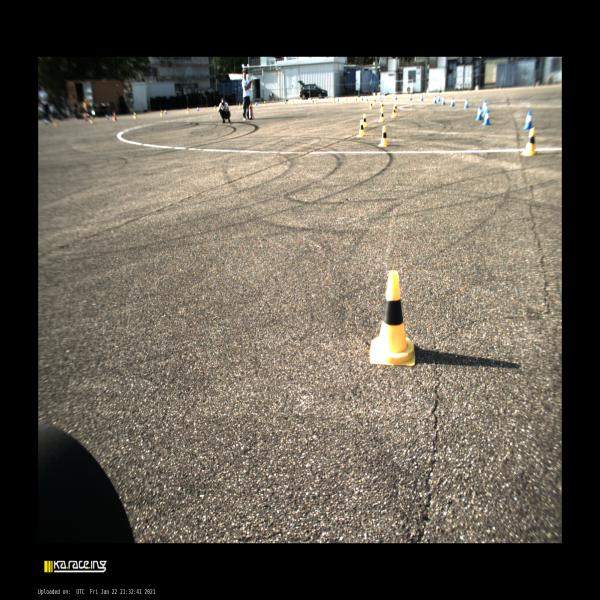blue_cone: (482, 110, 490, 126), (523, 111, 530, 129), (476, 106, 482, 120), (450, 97, 454, 107), (464, 99, 468, 108), (433, 96, 437, 103), (442, 96, 445, 105), (421, 95, 424, 101), (409, 94, 412, 100)
yellow_cone: (370, 271, 415, 366), (520, 128, 537, 156), (378, 126, 389, 147), (357, 120, 365, 137), (379, 109, 384, 122), (363, 114, 367, 128), (392, 106, 396, 117), (380, 103, 384, 110), (369, 102, 373, 109), (395, 103, 397, 113)
